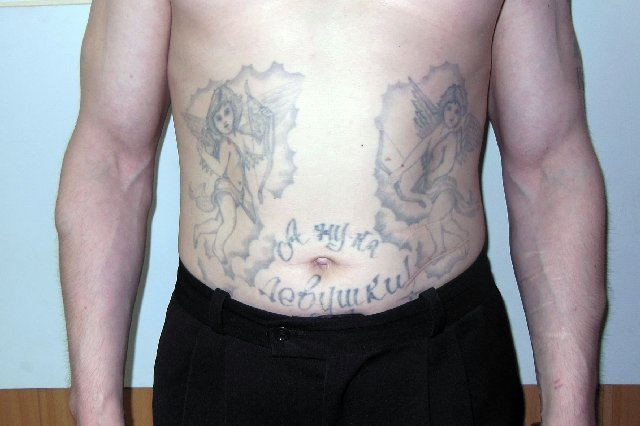tatu1_angel: (371, 76, 486, 273), (177, 80, 282, 285)
tatu3_bukva: (252, 216, 416, 312)
